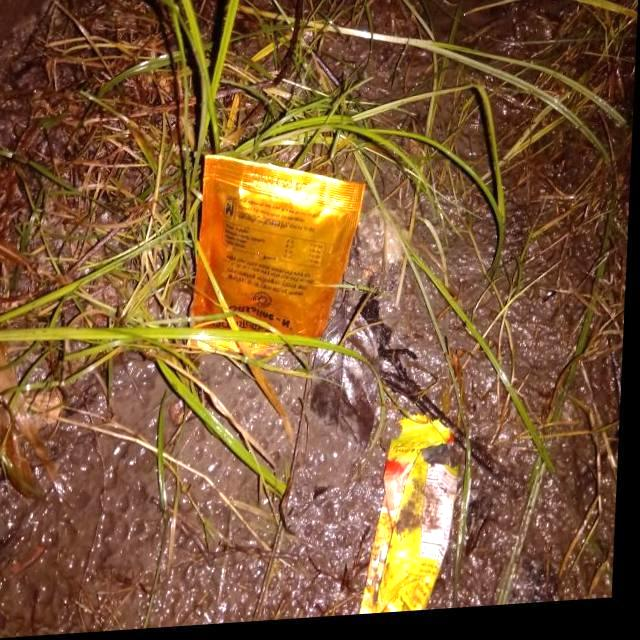packet: (181, 166, 372, 363), (364, 427, 459, 618)
